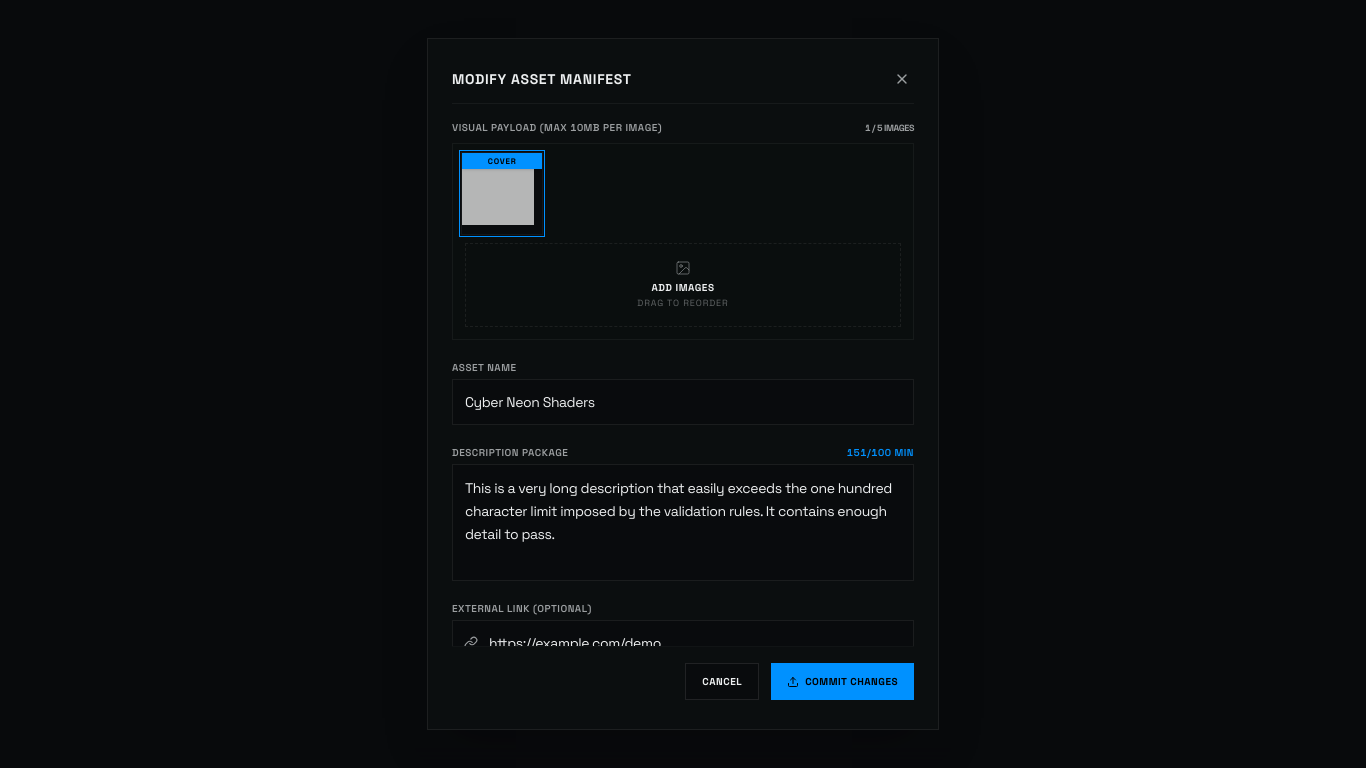
Scenario: EditAssetModal Component › shows validation error when description is too short
Check: the heading "Modify Asset Manifest" is shown, box [452,69,632,89]
Replace the text in the text box showing "This is a very long description that easily exceeds the one hundred character limit imposed by the validation rules. It " with "Too short" at (683,523), box [452,464,914,581]
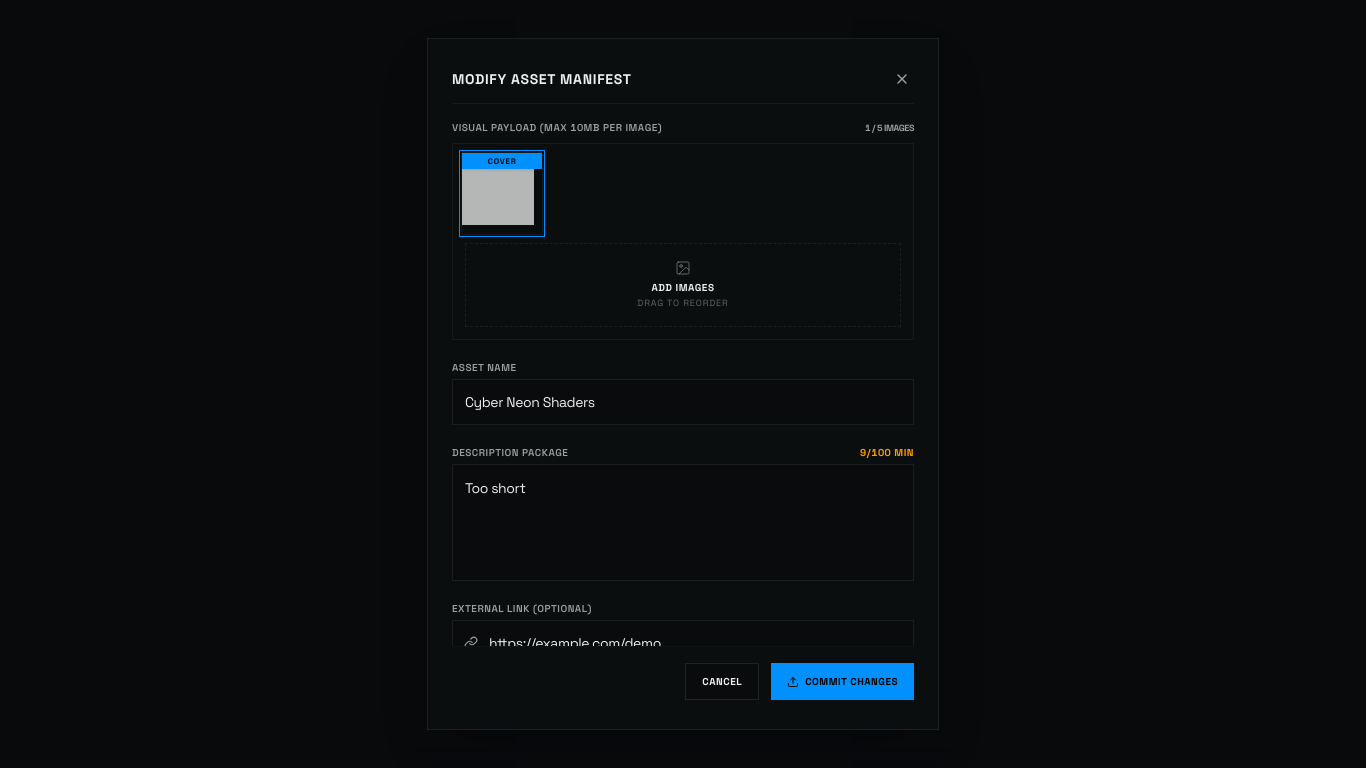
Click the button "Commit Changes" at (843,682), box [771,664,914,701]
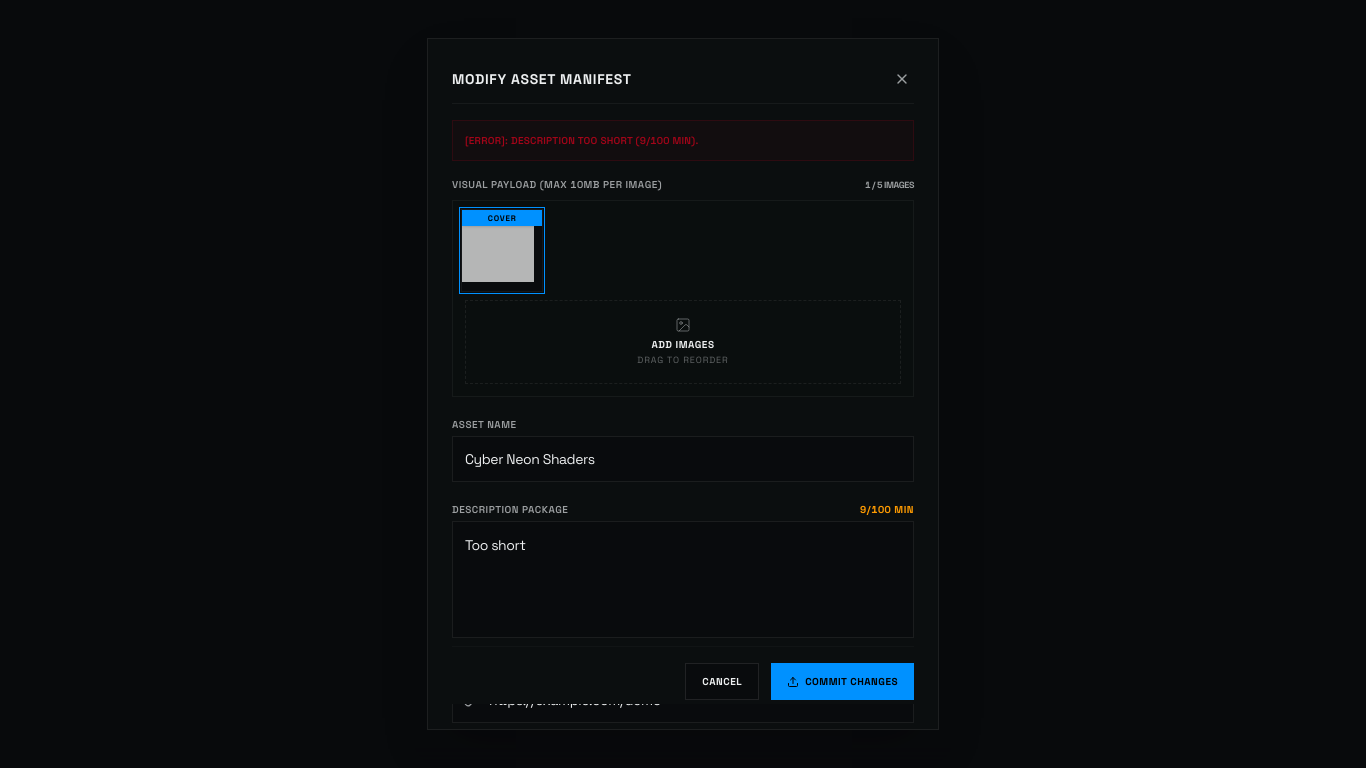
Check: the text "[ERROR]: Description too short (9/100 min)." is shown, box [452,120,914,161]
